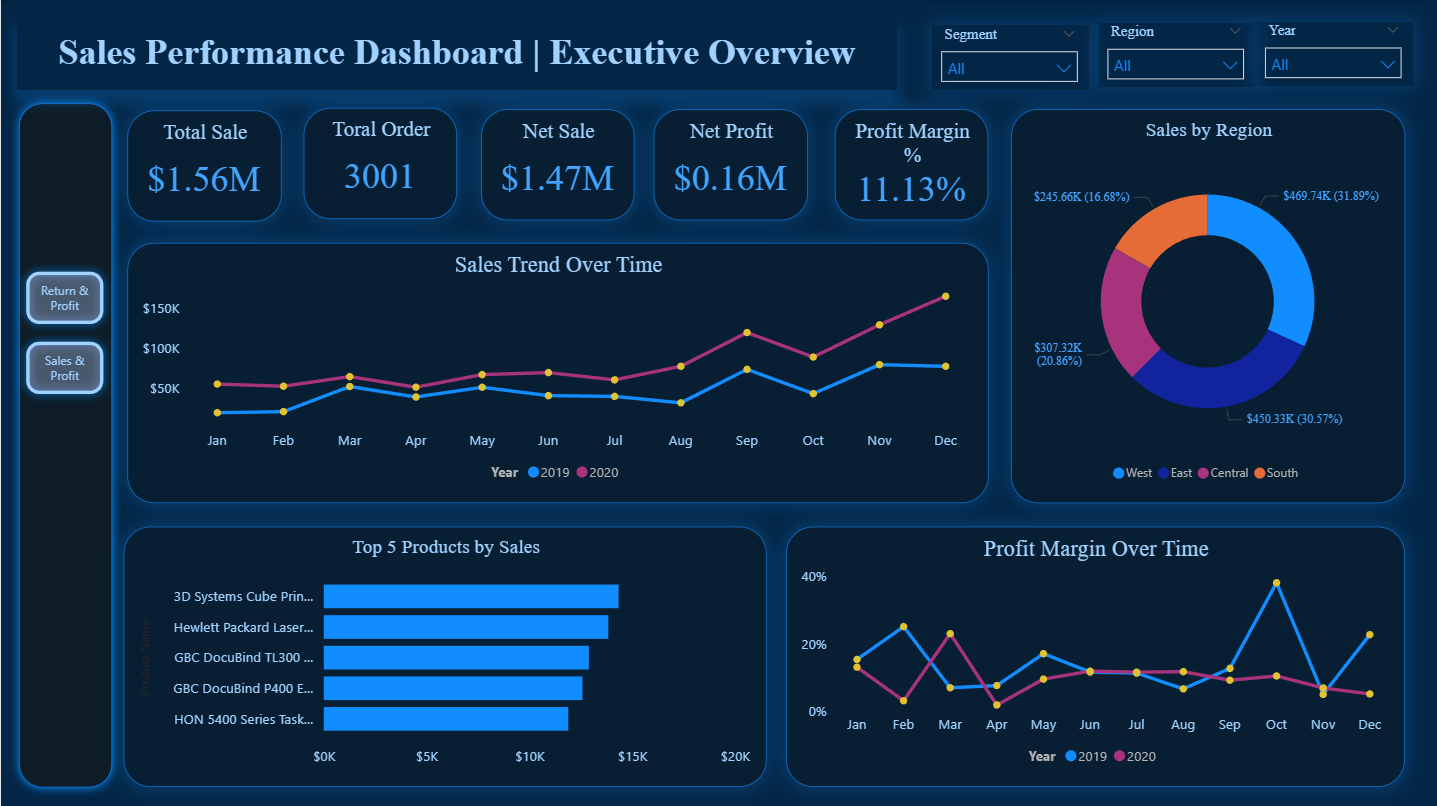

The dashboard page shown, as its layout file describes it:
{"tool":"powerbi","page":{"name":"Executive overview","canvas":[1280,720],"ordinal":0},"visuals":[{"type":"card","title":"Total Sale","fields":{"Values":["_Measure.Total_Sale"]},"box":[112.9,99.4,137.4,99.4],"z":0},{"type":"shape","box":[7.4,84.7,99.4,625.8],"z":1000},{"type":"card","title":"Net Profit","fields":{"Values":["_Measure.Net_Profit"]},"box":[581.6,98.2,137.4,99.4],"z":2000},{"type":"card","title":"Net Sale","fields":{"Values":["_Measure.Net_Sales"]},"box":[427.1,98.1,137.1,99.6],"z":3000},{"type":"card","title":"Profit Margin %","fields":{"Values":["_Measure.Profit_Margin%"]},"box":[742.3,98.2,137,99.4],"z":4000},{"type":"lineChart","title":"Profit Margin Over Time","fields":{"Category":["Dim_Date.Month Name"],"Series":["Dim_Date.Year"],"Y":["_Measure.Profit_Margin%"]},"box":[699.4,469.9,550.9,231.9],"z":5000},{"type":"slicer","title":"Profit Margin %","fields":{"Values":["Dim_Date.Year"]},"box":[1118.1,20.2,139.9,57.7],"z":6000},{"type":"donutChart","title":"Sales by Region","fields":{"Y":["_Measure.Net_Sales"],"Category":["Dim_Customer.Region"]},"box":[899.4,98.2,350.9,350.9],"z":7000},{"type":"clusteredBarChart","title":"Top 5 Products by Sales","fields":{"Y":["_Measure.Net_Sales"],"Category":["Dim_Product.Product Name"]},"box":[109.2,469.9,573,231.9],"z":8000},{"type":"textbox","box":[14.4,17.3,783.4,63.5],"z":9000},{"type":"slicer","title":"Profit Margin %","fields":{"Values":["Dim_Customer.Region"]},"box":[977.9,20.9,139.9,57.7],"z":10000},{"type":"slicer","title":"Profit Margin %","fields":{"Values":["Dim_Customer.Segment"]},"box":[829.5,23.3,139.9,57.7],"z":11000},{"type":"actionButton","box":[14.7,296.9,84.7,62.6],"z":12000},{"type":"actionButton","box":[14.7,234.4,84.7,62.6],"z":13000},{"type":"lineChart","title":"Sales Trend Over Time","fields":{"Y":["_Measure.Total_Sale"],"Category":["Dim_Date.Month Name"],"Series":["Dim_Date.Year"]},"box":[112.9,217.2,766.9,231.9],"z":14000},{"type":"card","title":"Toral Order","fields":{"Values":["_Measure.Total_Order"]},"box":[269.8,96.7,137.1,99.6],"z":15000}]}

Visuals, with their boxes in screenshot pixels (x1, y1, x2, y2), scaled from the page's 1280x720 canvas onto the 1437x806 screenshot:
"Total Sale" card: 127/111/281/223
shape: 8/95/120/795
"Net Profit" card: 653/110/807/221
"Net Sale" card: 479/110/633/221
"Profit Margin %" card: 833/110/987/221
"Profit Margin Over Time" lineChart: 785/526/1404/786
"Profit Margin %" slicer: 1255/23/1412/87
"Sales by Region" donutChart: 1010/110/1404/503
"Top 5 Products by Sales" clusteredBarChart: 123/526/766/786
textbox: 16/19/896/90
"Profit Margin %" slicer: 1098/23/1255/88
"Profit Margin %" slicer: 931/26/1088/91
actionButton: 17/332/112/402
actionButton: 17/262/112/332
"Sales Trend Over Time" lineChart: 127/243/988/503
"Toral Order" card: 303/108/457/220
